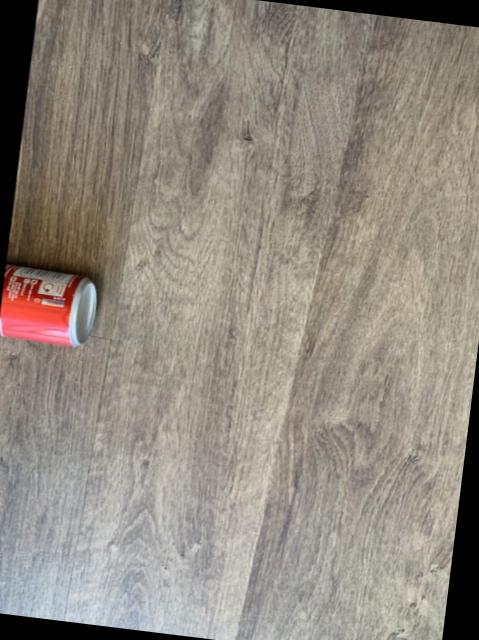metal: (0, 262, 97, 345)
